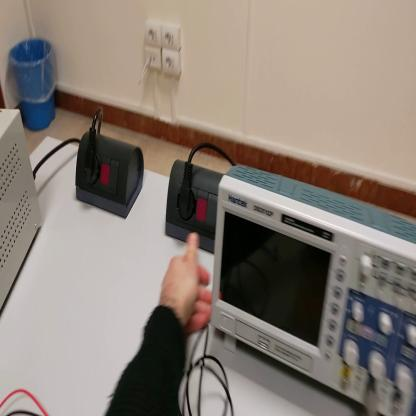hand: (159, 231, 214, 332)
oscilloscope: (213, 163, 416, 415)
power supply: (2, 109, 43, 315)
socket: (77, 132, 146, 225), (166, 159, 226, 255)
